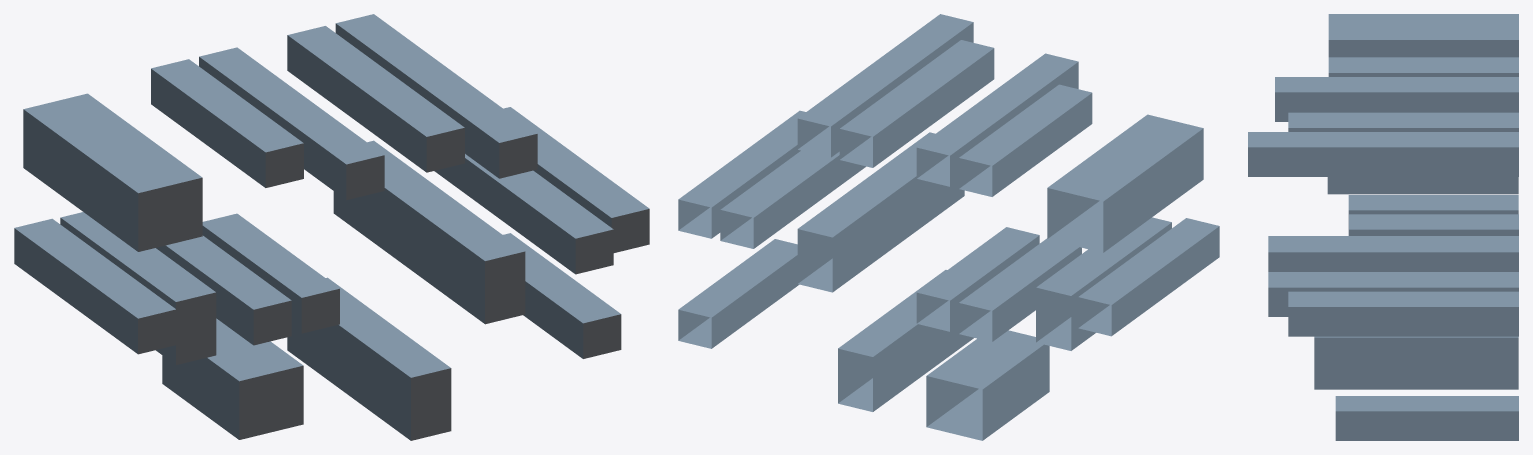
Rendered from island_bldg_09_09.obj.
3 renders of one model, left to right at view 1: azimuth 30°, elevation 25°; view 2: azimuth 150°, elevation 25°; view 3: azimuth 270°, elevation 25°, orthographic. The views are drawn at different scales.
Visible parts, largest first — view 1: island_bldg_09_09; view 2: island_bldg_09_09; view 3: island_bldg_09_09.
Boxes of the visible parts, x1,y1,x2,y2 form: island_bldg_09_09: (14, 14, 649, 440); island_bldg_09_09: (678, 14, 1219, 440); island_bldg_09_09: (1248, 14, 1518, 440).
Bounding box in the file's own units: 247 × 151 × 141.
